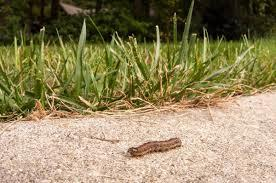fallarmy_worm: (125, 136, 187, 158)
